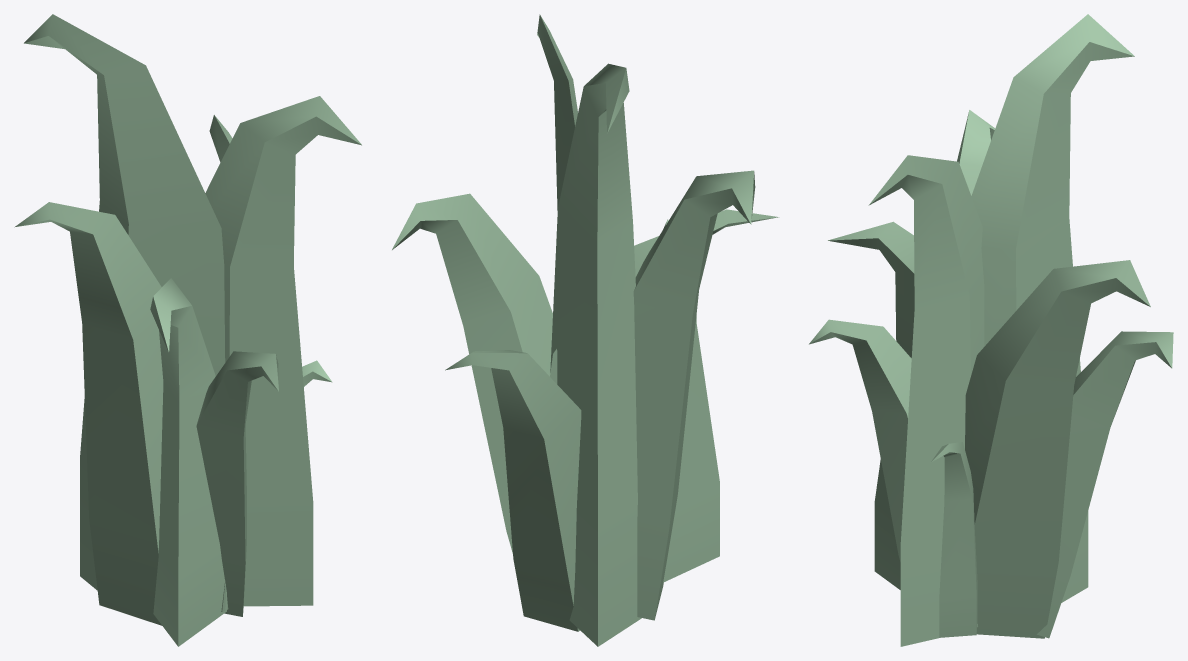
Rendered from Grass4.fbx.
3 views of the same model, side by side, from view 1: azimuth 30°, elevation 25°; view 2: azimuth 150°, elevation 25°; view 3: azimuth 270°, elevation 25° (orthographic). The views are drawn at different scales.
Visible parts, largest first — view 1: pCube12; view 2: pCube12; view 3: pCube12.
Boxes of the visible parts, left/top/right/bottom form: pCube12: left=14, top=14, right=361, bottom=646; pCube12: left=392, top=14, right=779, bottom=646; pCube12: left=809, top=14, right=1173, bottom=646.
Bounding box in the file's own units: 2.81 × 5.58 × 3.23.
